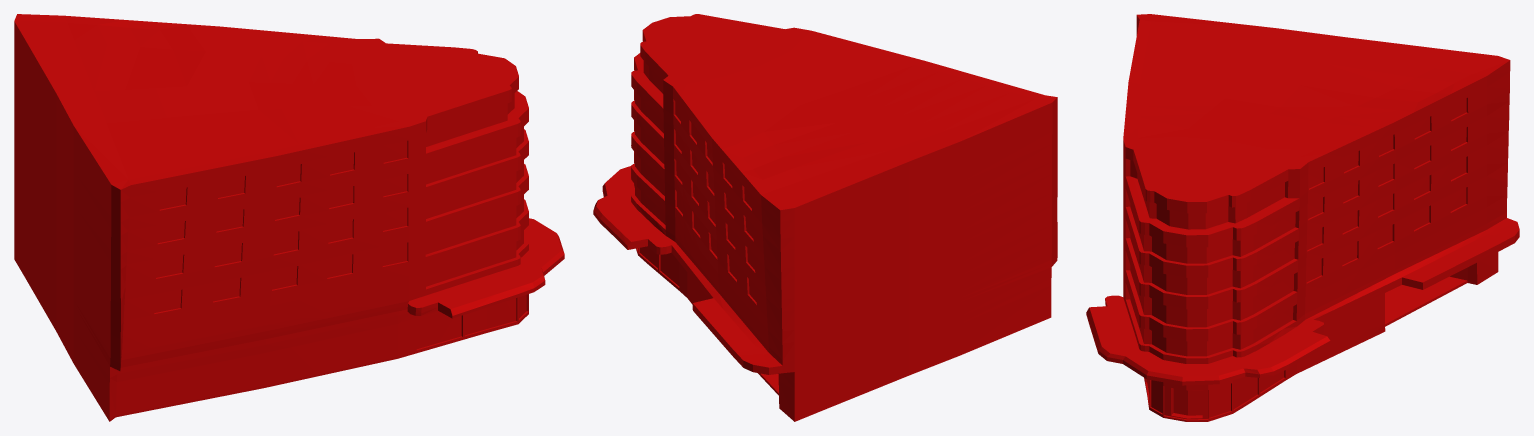
File: capitolioInf.fbx
3 renders of one model, left to right at view 1: azimuth 30°, elevation 25°; view 2: azimuth 150°, elevation 25°; view 3: azimuth 270°, elevation 25°, orthographic. The views are drawn at different scales.
Visible parts, largest first — view 1: CapitolInf; view 2: CapitolInf; view 3: CapitolInf.
Part boxes in pixels (x1=…): CapitolInf: x1=14, y1=14, x2=564, y2=421; CapitolInf: x1=593, y1=14, x2=1057, y2=421; CapitolInf: x1=1086, y1=14, x2=1519, y2=421.
Size of the model in its own units: 126 by 61.88 by 112.
